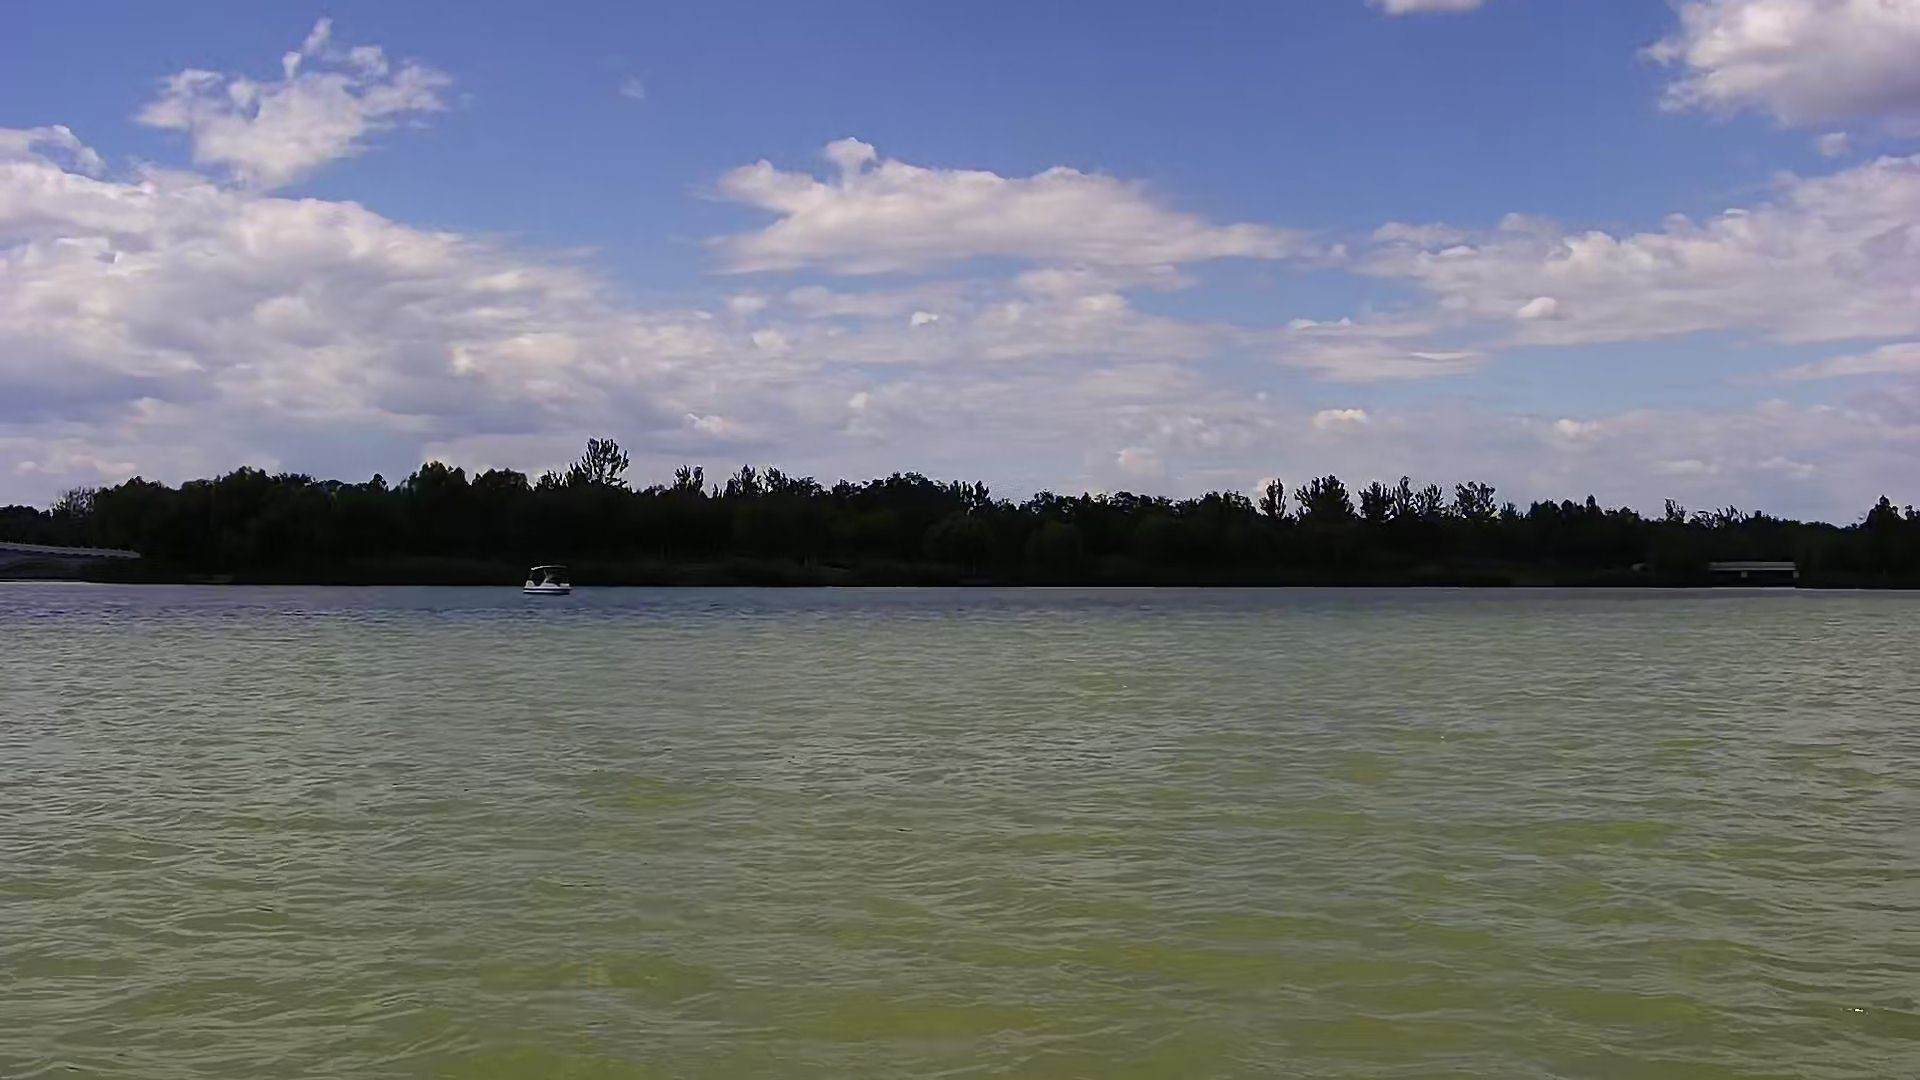boat: (516, 556, 588, 603)
